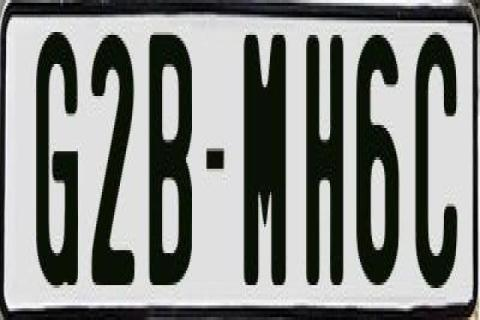0: (352, 26, 396, 294), (88, 35, 134, 291)
B: (148, 27, 194, 280)
C: (413, 26, 459, 282)
G: (32, 29, 82, 297)
H: (306, 27, 344, 280)
M: (240, 35, 286, 303)
